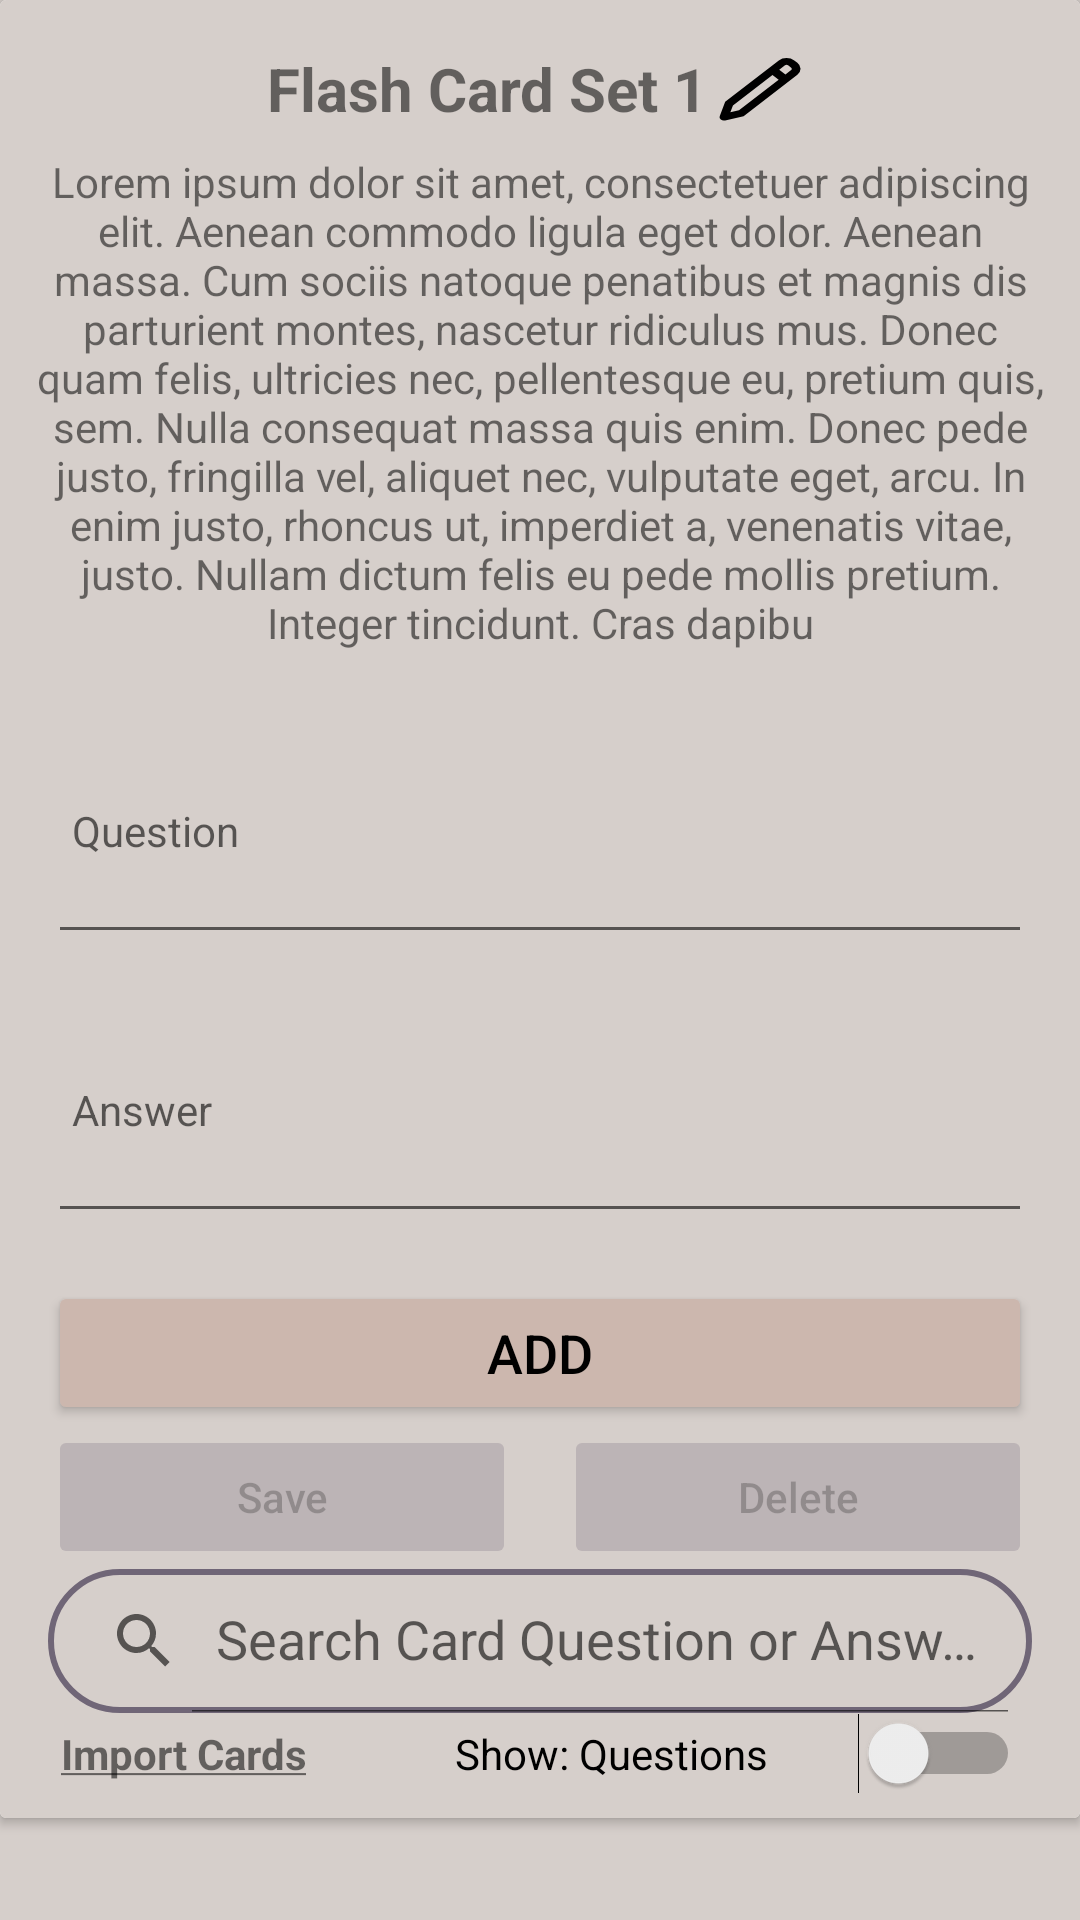

Where to tap for icons on this 1080x1920 app screen, as (x,y):
edit: (760,89)
